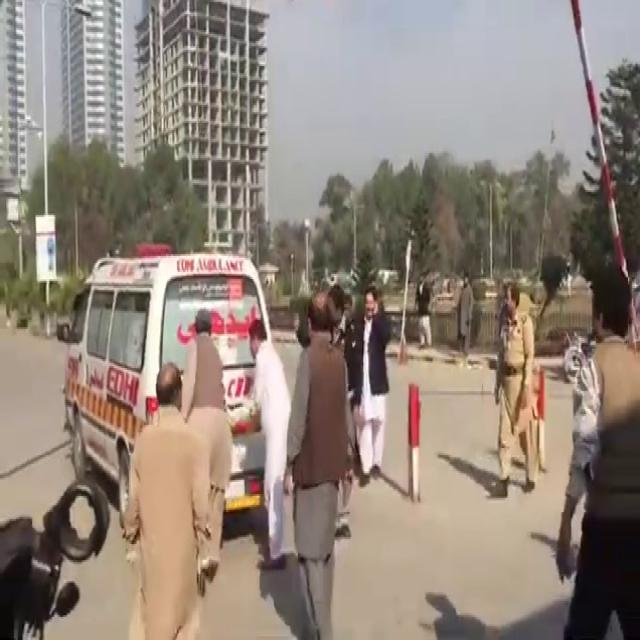ambulance: (56, 240, 287, 519)
